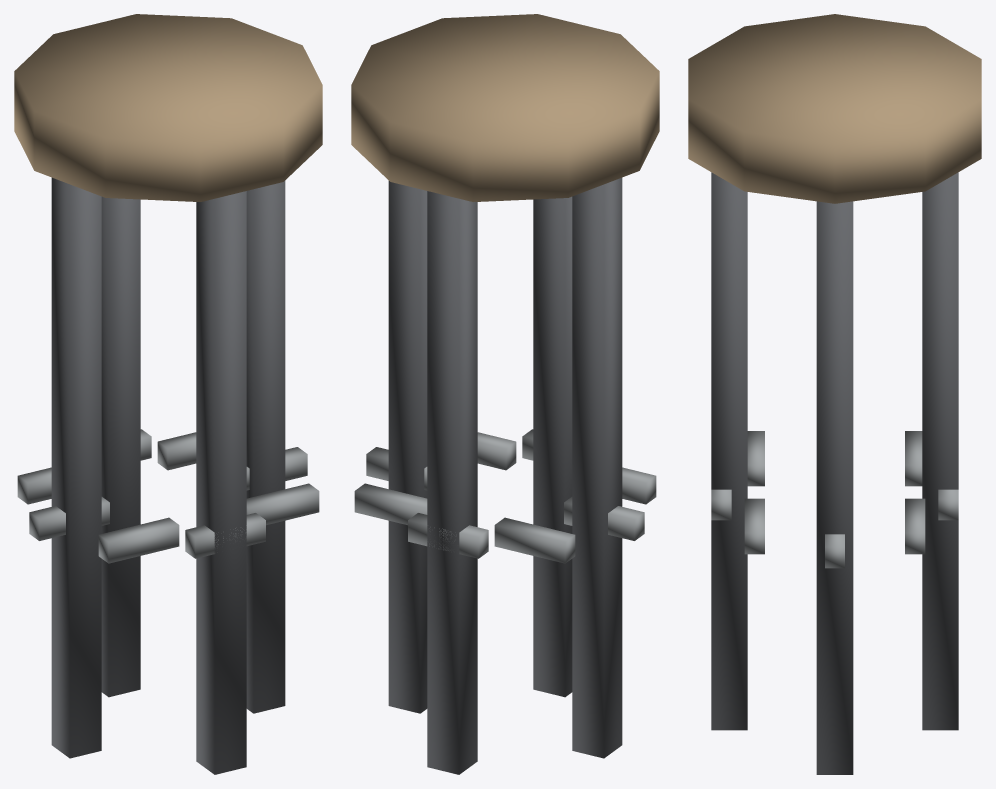
The model's file is bar_stool__tall.glb.
The picture shows the model from 3 angles, left to right: view 1: azimuth 30°, elevation 25°; view 2: azimuth 150°, elevation 25°; view 3: azimuth 270°, elevation 25°; orthographic projection.
Parts seen in each view (by area): view 1: world; view 2: world; view 3: world.
Boxes of the visible parts, x1,y1,x2,y2 form: world: (14,14,322,774); world: (351,14,659,774); world: (688,14,981,774).
Bounding box in the file's own units: 0.38 × 0.8758 × 0.3614.
